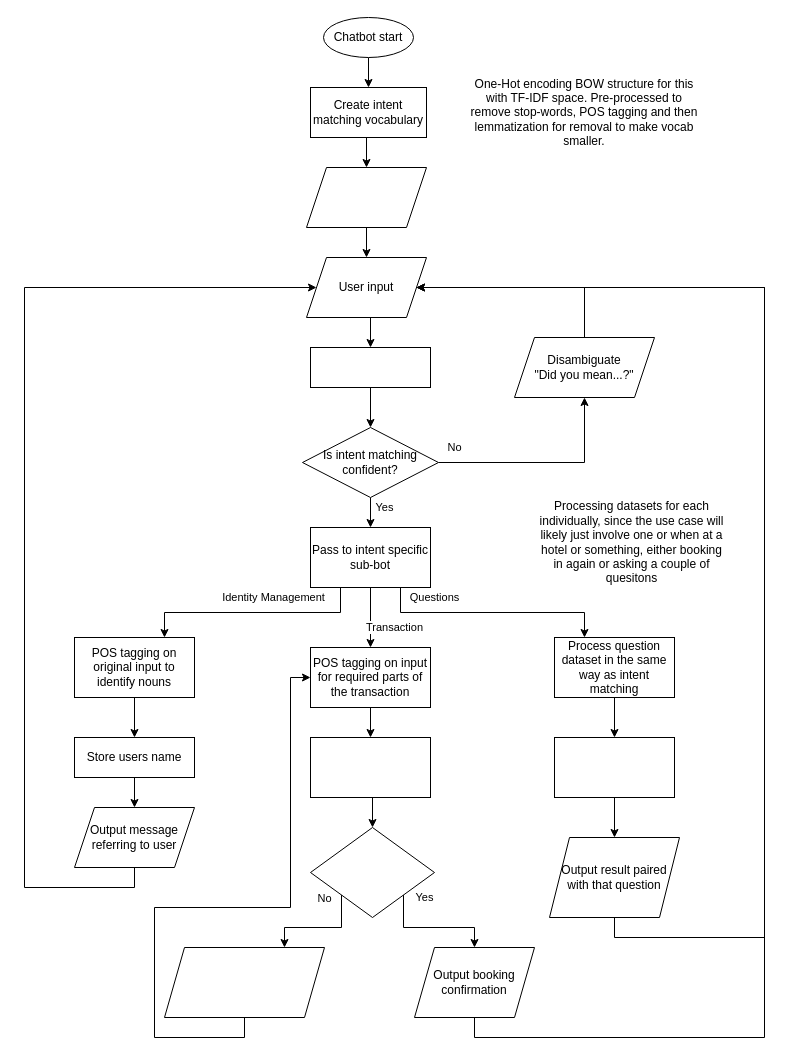
Some shapes in this 790 by 1063 pixel diagram are drawn without their labels. The centre of each missing label's shape, as x and y in pixels:
"All information gathered for full transaction?" belongs at point 372,872.
"Ask user about one of the missing details" belongs at point 244,982.
"Cosine similarity to find most similar question in DB" belongs at point 614,767.
"Prompt user with introduction" belongs at point 366,197.
"Run intent matching" belongs at point 370,367.
"Store the information given" belongs at point 370,767.
